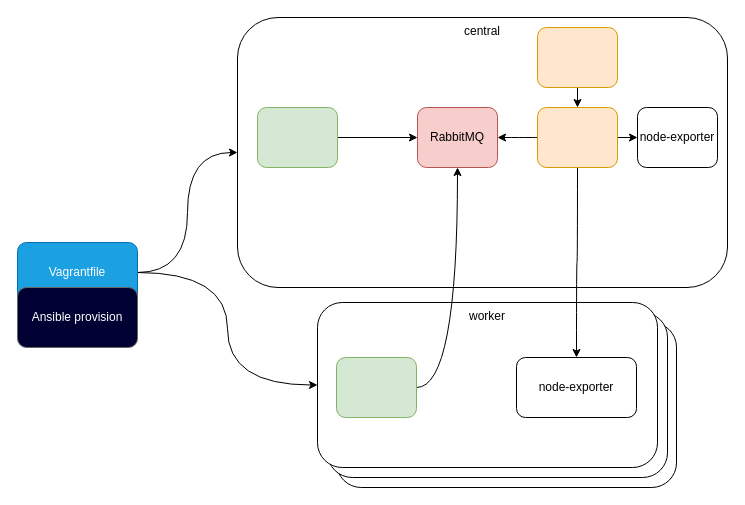
Image size: 745x505. Some labels were removed from this diagram. Here are the shapes that lost their labels. From the top down, the box of each, then its label:
(536, 26, 618, 88): Grafana
(256, 106, 338, 168): Producer
(536, 106, 618, 168): Prometheus
(336, 356, 416, 418): Consumer
